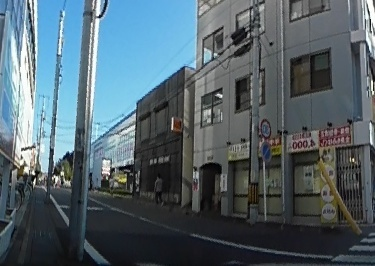person: (153, 171, 163, 206)
